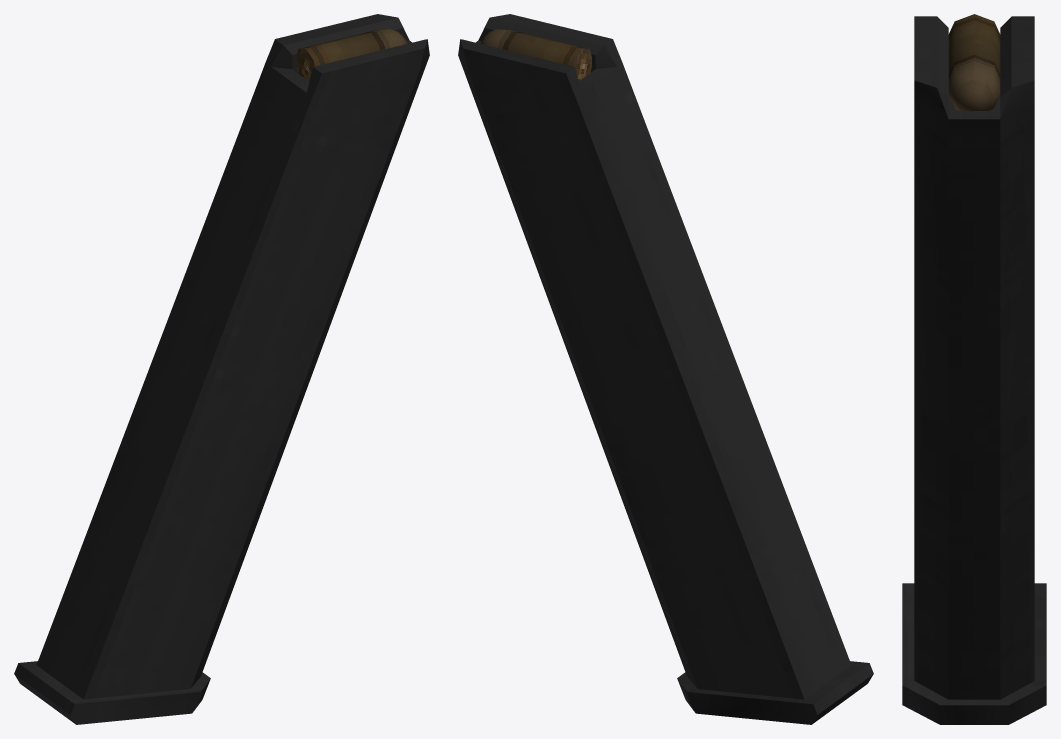
Rendered from pistol_mp_1_mag_extended_loaded.glb.
The picture shows the model from 3 angles, left to right: view 1: azimuth 30°, elevation 25°; view 2: azimuth 150°, elevation 25°; view 3: azimuth 270°, elevation 25°; orthographic projection. The views are drawn at different scales.
Parts seen in each view (by area): view 1: pistol_mp_1_mag_extended_loaded; view 2: pistol_mp_1_mag_extended_loaded; view 3: pistol_mp_1_mag_extended_loaded.
Part boxes in pixels (x1,y1,x2,y2): pistol_mp_1_mag_extended_loaded: (14,14,429,724); pistol_mp_1_mag_extended_loaded: (458,14,873,724); pistol_mp_1_mag_extended_loaded: (902,14,1046,724).
Size of the model in its own units: 0.1391 by 0.2158 by 0.036.
Materials: 2 (2 with a texture image).
